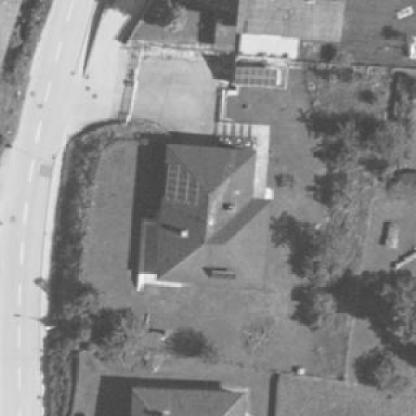solar-pv-panel: (165, 165, 197, 204), (234, 68, 276, 86), (212, 272, 236, 279)
